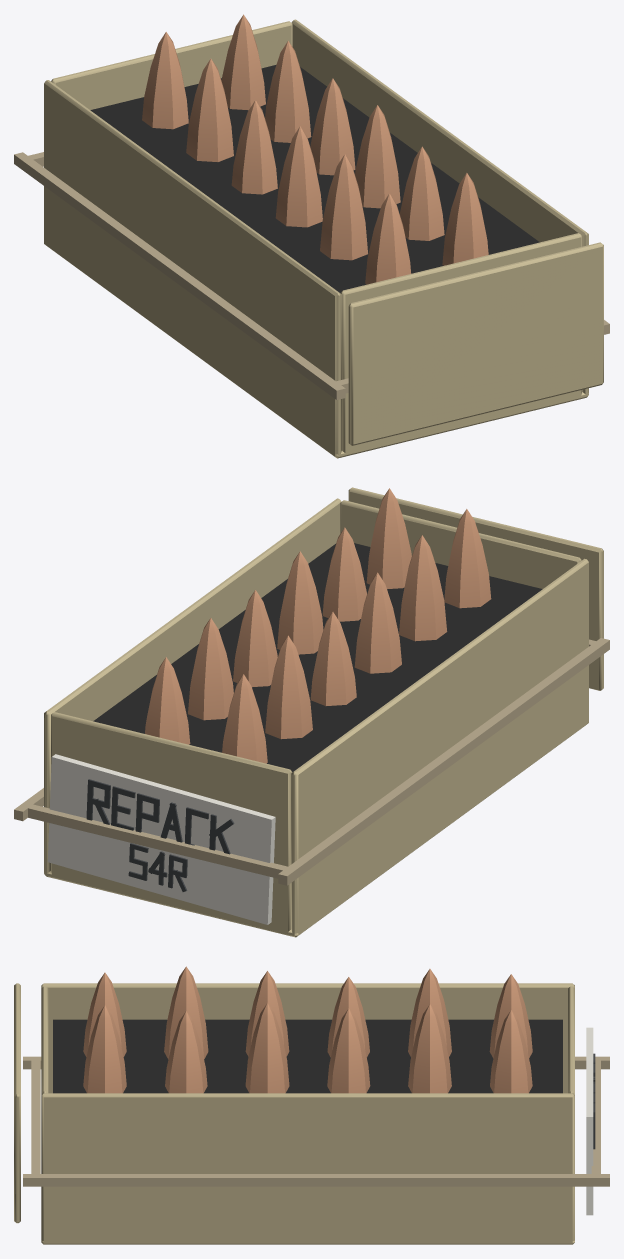
The model's file is ammo_762r_repack.glb.
3 views of the same model, one above another, from view 1: azimuth 30°, elevation 25°; view 2: azimuth 150°, elevation 25°; view 3: azimuth 270°, elevation 25° (orthographic). The views are drawn at different scales.
Visible parts, largest first — view 1: body; view 2: body; view 3: body.
Boxes of the visible parts, bbox=[...] form: body: bbox=[14, 14, 609, 458]; body: bbox=[14, 487, 609, 937]; body: bbox=[14, 966, 609, 1244].
Bounding box in the file's own units: 0.0484 × 0.0383 × 0.1005.
